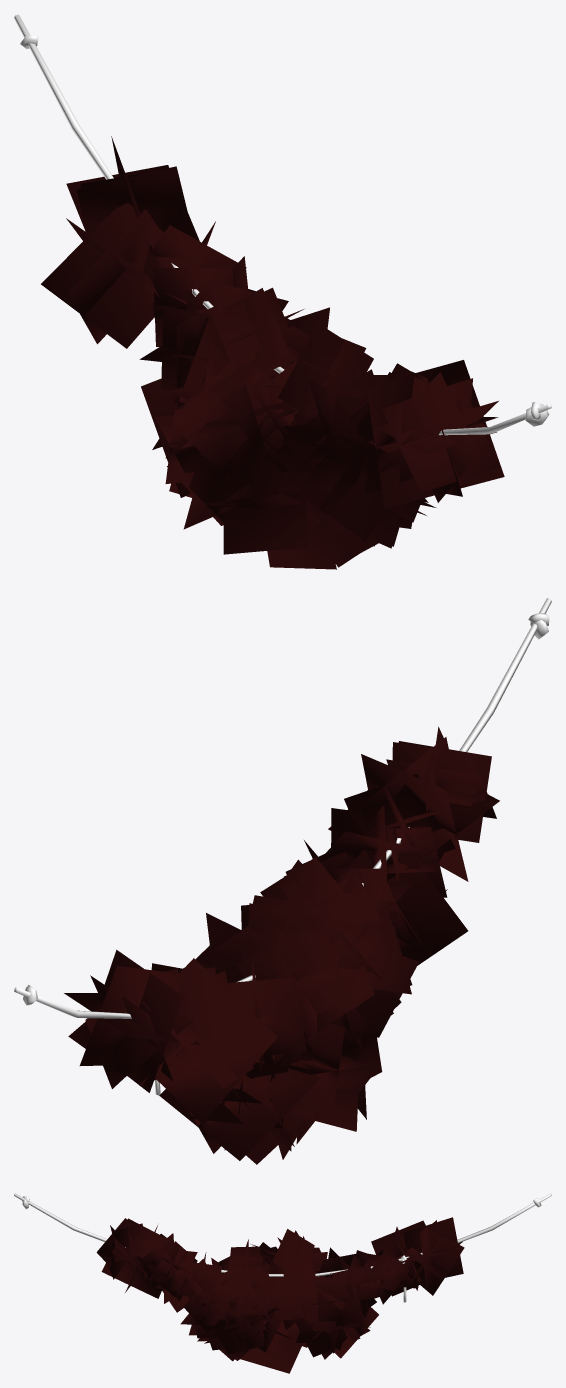
The model's file is TAI_Rope_Vine_01B.fbx.
The picture shows the model from 3 angles, top to bottom: view 1: azimuth 30°, elevation 25°; view 2: azimuth 150°, elevation 25°; view 3: azimuth 270°, elevation 25°; orthographic projection. The views are drawn at different scales.
Visible parts, largest first — view 1: TAI_Rope_Vine_01B_LOD0; view 2: TAI_Rope_Vine_01B_LOD0; view 3: TAI_Rope_Vine_01B_LOD0.
Part boxes in pixels (x1,y1,x2,y2): TAI_Rope_Vine_01B_LOD0: (14,14,551,569); TAI_Rope_Vine_01B_LOD0: (14,598,551,1164); TAI_Rope_Vine_01B_LOD0: (14,1193,551,1373).
Size of the model in its own units: 275 by 448 by 1202.
